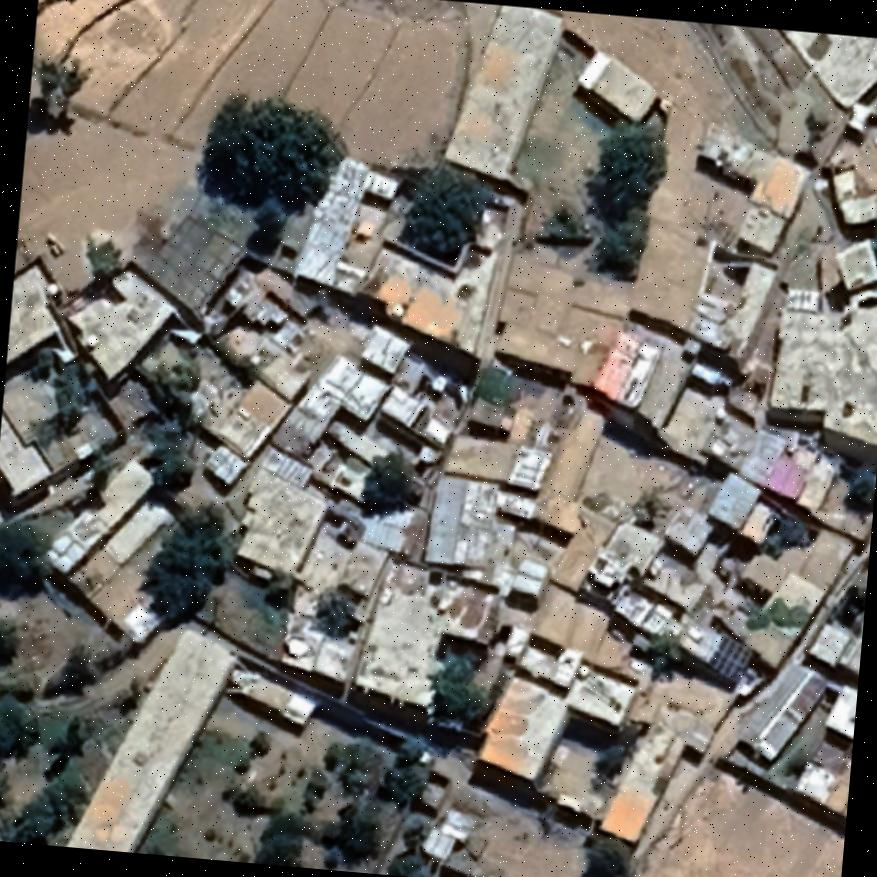Solarpanel: (702, 631, 756, 685)
